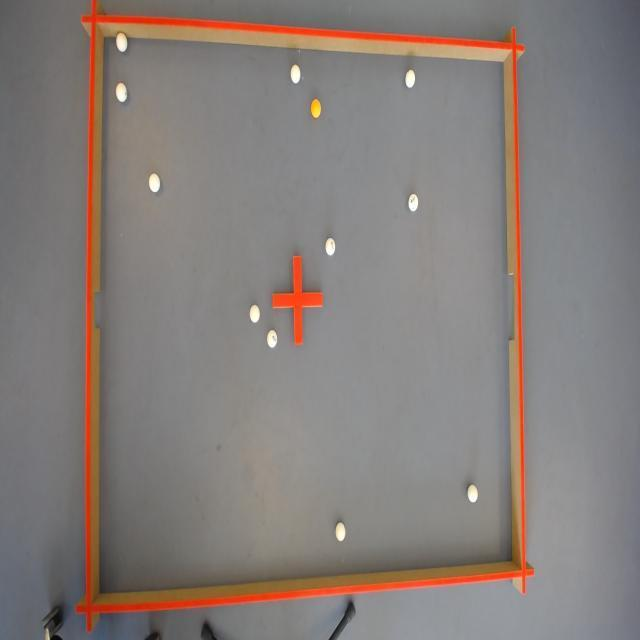orange: (309, 99, 322, 117)
white: (116, 82, 130, 104), (266, 328, 279, 349), (148, 171, 160, 193), (290, 62, 303, 82), (404, 67, 416, 88), (467, 482, 479, 502), (335, 520, 347, 540), (407, 192, 419, 212), (248, 302, 259, 322), (325, 236, 336, 256), (116, 34, 128, 52)
